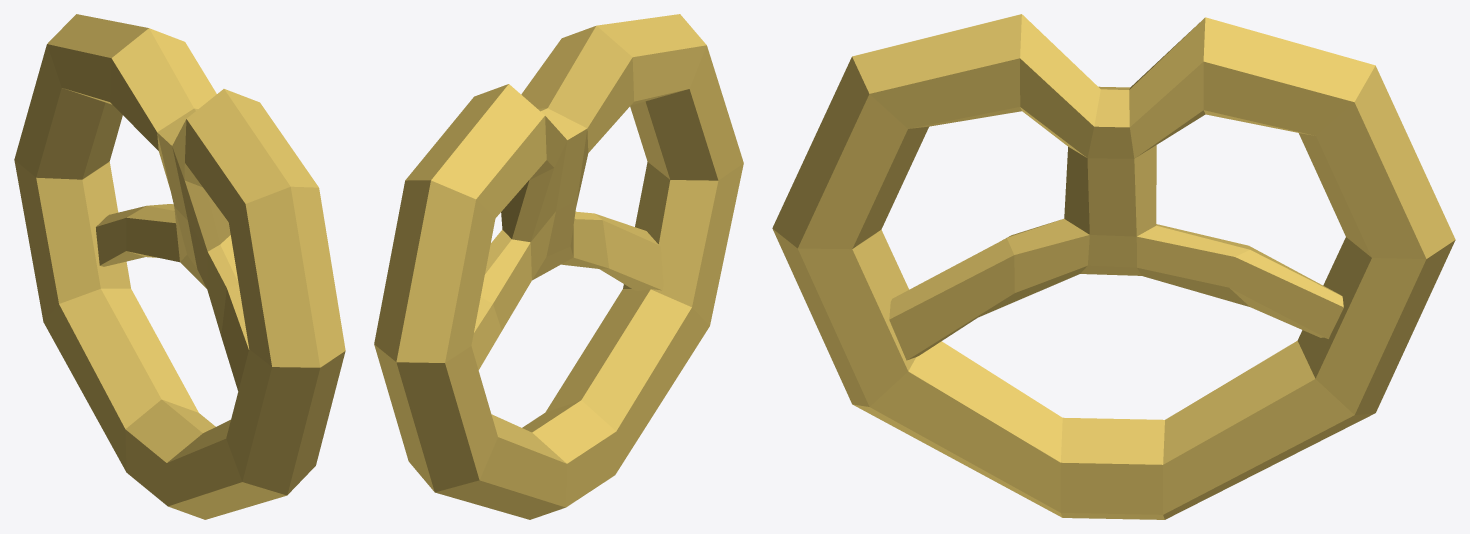
Rendered from pratzel.fbx.
3 renders of one model, left to right at view 1: azimuth 30°, elevation 25°; view 2: azimuth 150°, elevation 25°; view 3: azimuth 270°, elevation 25°, orthographic. The views are drawn at different scales.
Parts seen in each view (by area): view 1: _pratzel; view 2: _pratzel; view 3: _pratzel.
Part boxes in pixels (x1,y1,x2,y2): _pratzel: [14, 14, 345, 519]; _pratzel: [374, 14, 743, 519]; _pratzel: [772, 14, 1455, 519].
Bounding box in the file's own units: 20.73 × 85.88 × 105.
